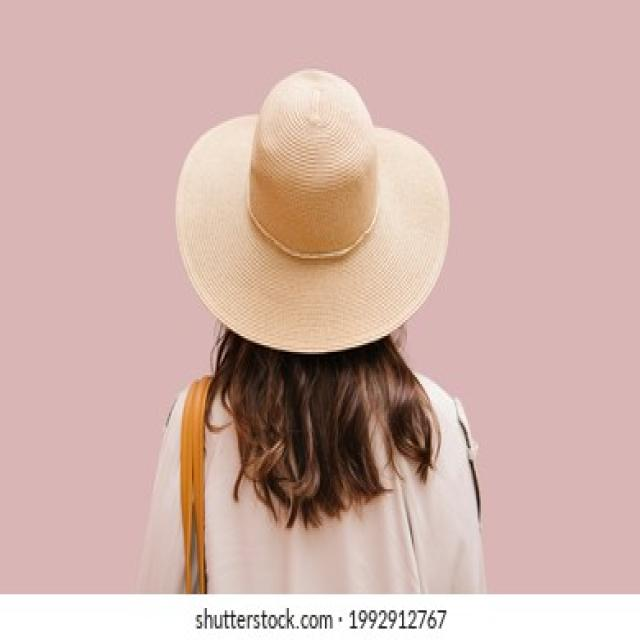hat: (179, 71, 450, 370)
